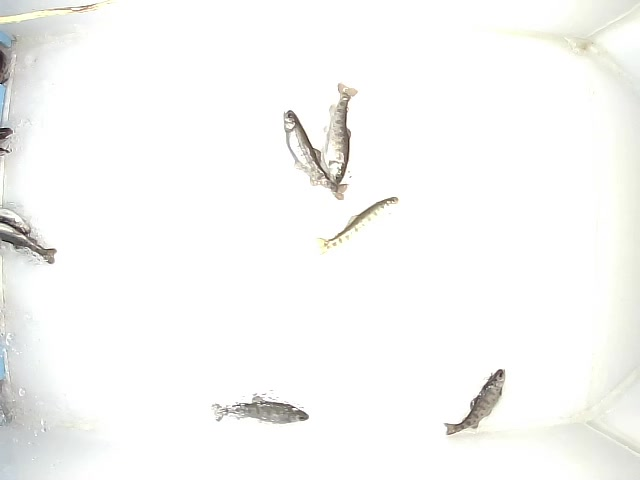fish: (283, 106, 350, 199), (315, 194, 397, 258), (441, 366, 508, 436), (322, 82, 360, 186), (212, 394, 309, 426)
